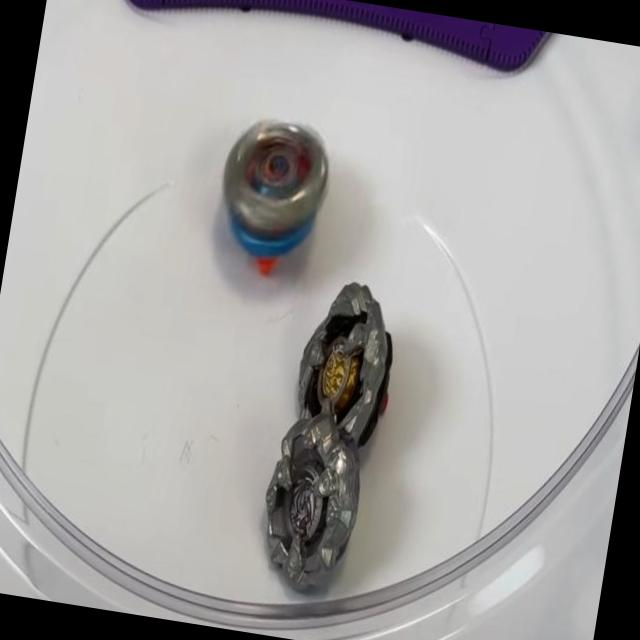Beyblade: (207, 110, 337, 289), (251, 408, 374, 596), (286, 276, 402, 450)
